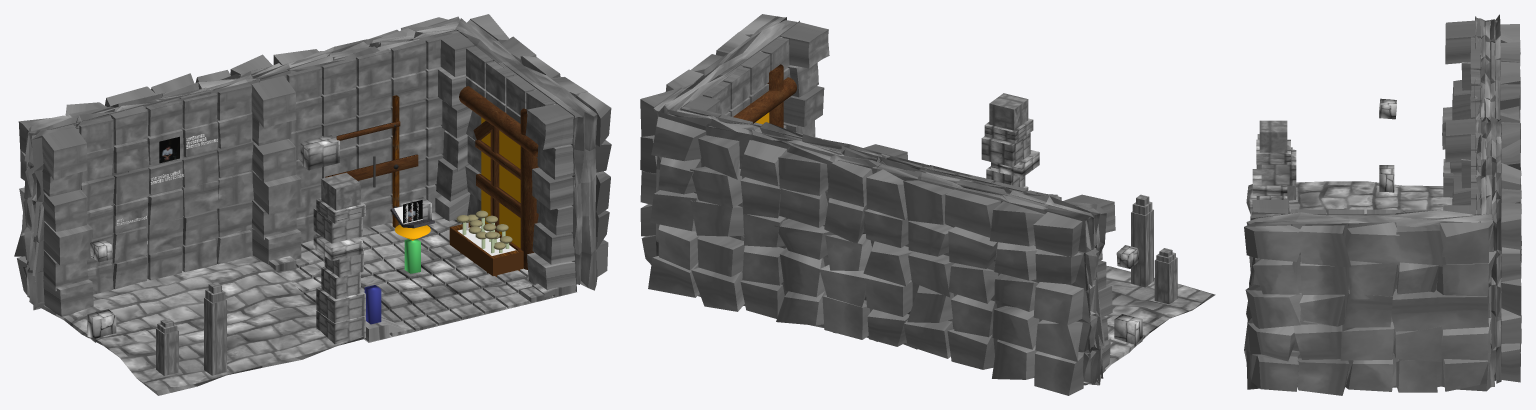
Rendered from Portf1.glb.
The picture shows the model from 3 angles, left to right: view 1: azimuth 30°, elevation 25°; view 2: azimuth 150°, elevation 25°; view 3: azimuth 270°, elevation 25°; orthographic projection. The views are drawn at different scales.
Parts seen in each view (by area): view 1: กำแพง1.001, กำแพง1, Plane.001, กำแพง2, พื้น, Cube, Cube.002, Cube.001, แสงส้ม, Cube.004, เสา, Plane.003 (+18 smaller); view 2: Cube.002, Cube.001, กำแพง2, Cube, Plane.001, กำแพง1.001, Cube.004, Cube.003, Cube.012, Cube.010, คานไม้, เสาหิน.001 (+4 smaller); view 3: Cube, Cube.001, Plane.001, Cube.002, กำแพง1.001, กำแพง1, กำแพง2, Cube.012, Cube.010, Cube.011, Cube.009, เสาหิน.001 (+1 smaller).
Part boxes in pixels (<box>): กำแพง1.001: <box>42,83,253,316</box>; กำแพง1: <box>251,29,460,264</box>; Plane.001: <box>39,255,363,395</box>; กำแพง2: <box>435,30,576,295</box>; พื้น: <box>269,212,576,342</box>; Cube: <box>455,14,611,290</box>; Cube.002: <box>14,70,259,310</box>; Cube.001: <box>230,16,474,228</box>; แสงส้ม: <box>481,117,520,248</box>; Cube.004: <box>204,282,226,375</box>; เสา: <box>520,108,538,269</box>; Plane.003: <box>449,219,523,276</box>; Cube.002: <box>863,153,1106,395</box>; Cube.001: <box>648,104,886,341</box>; กำแพง2: <box>680,21,829,136</box>; Cube: <box>640,14,797,264</box>; Plane.001: <box>1102,265,1215,372</box>; กำแพง1.001: <box>886,157,1115,369</box>; Cube.004: <box>1131,194,1153,287</box>; Cube.003: <box>1154,248,1177,303</box>; Cube.012: <box>989,93,1028,130</box>; Cube.010: <box>981,132,1030,167</box>; คานไม้: <box>733,77,796,123</box>; เสาหิน.001: <box>1114,314,1142,346</box>; Cube: <box>1244,210,1496,395</box>; Cube.001: <box>1475,116,1521,383</box>; Plane.001: <box>1246,181,1452,220</box>; Cube.002: <box>1474,14,1520,123</box>; กำแพง1.001: <box>1442,20,1481,197</box>; กำแพง1: <box>1443,118,1480,214</box>; กำแพง2: <box>1252,199,1480,215</box>; Cube.012: <box>1259,120,1287,152</box>; Cube.010: <box>1261,150,1296,185</box>; Cube.011: <box>1256,139,1290,164</box>; Cube.009: <box>1252,169,1287,195</box>; เสาหิน.001: <box>1379,165,1394,192</box>.
Size of the model in its own units: 22.29 by 8.8 by 12.07.
Materials: 20 (9 with a texture image).
